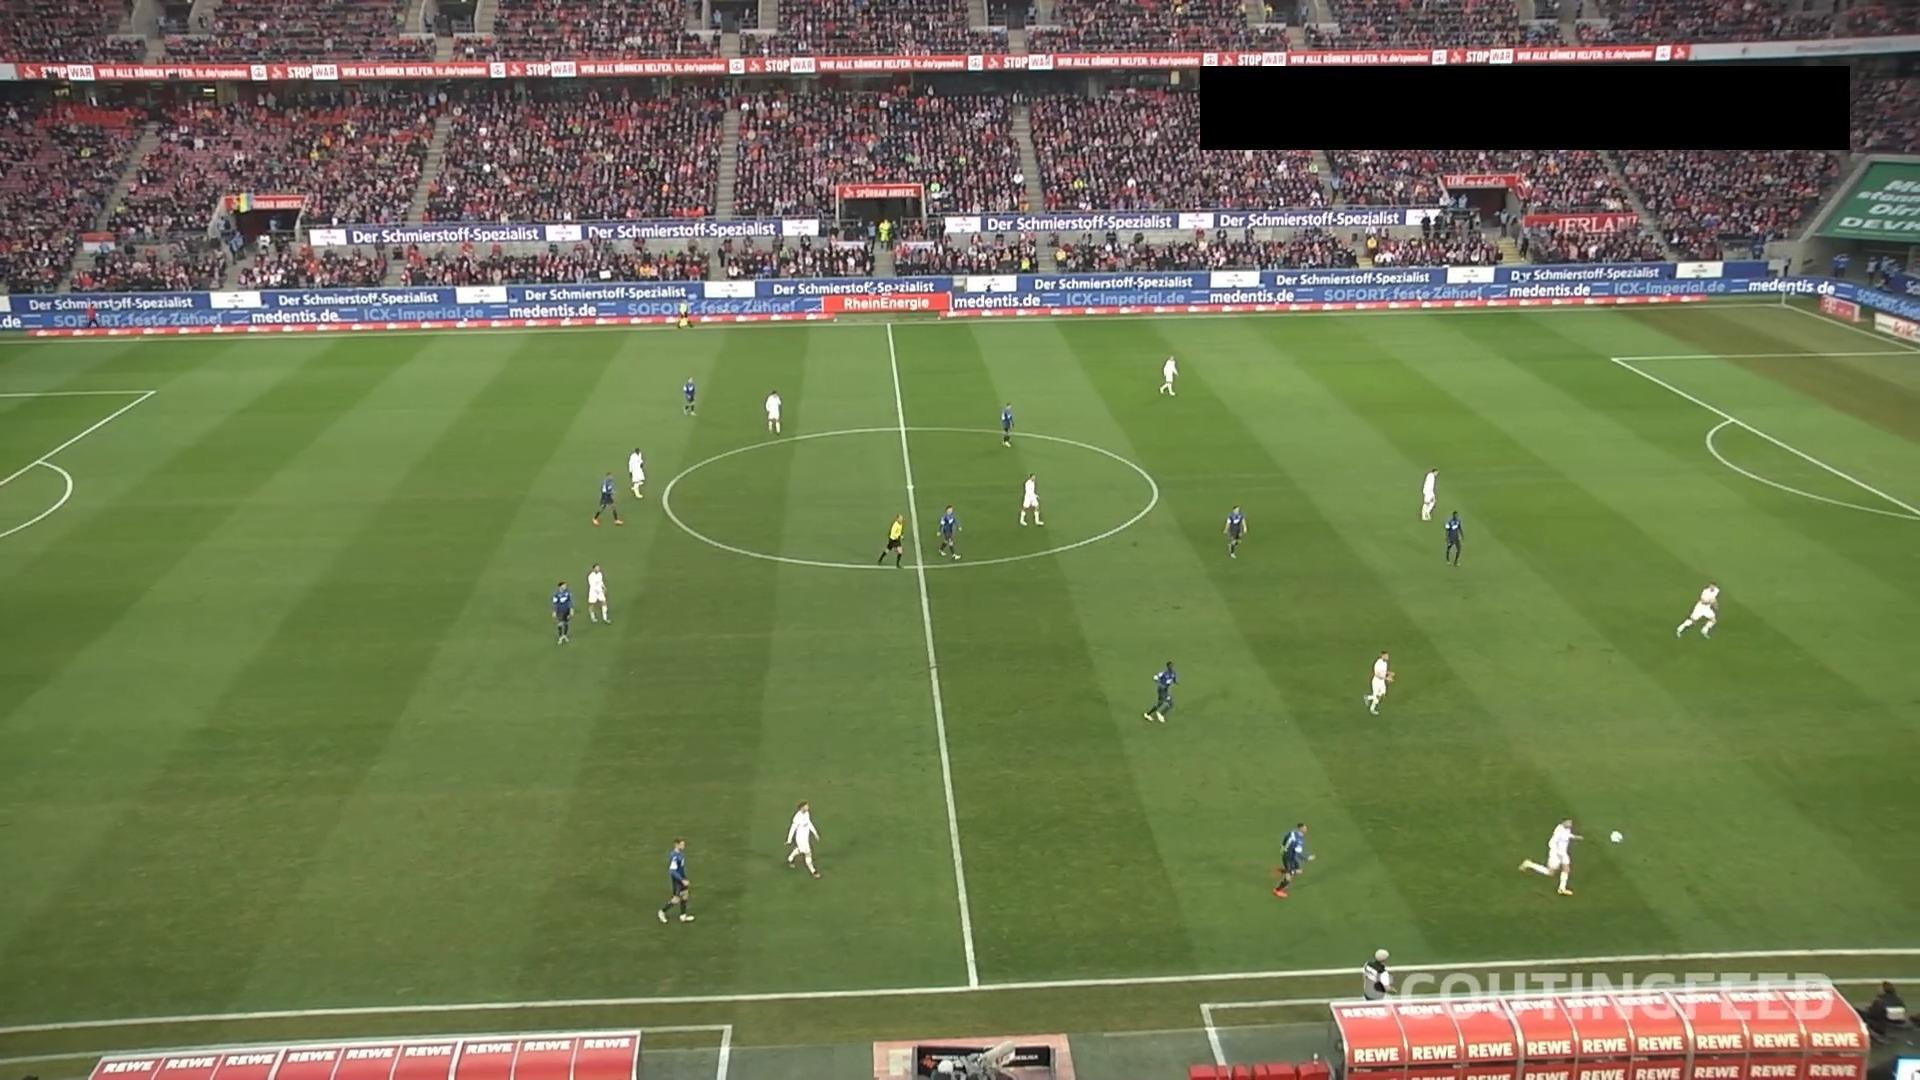ball: (1609, 829, 1625, 844)
